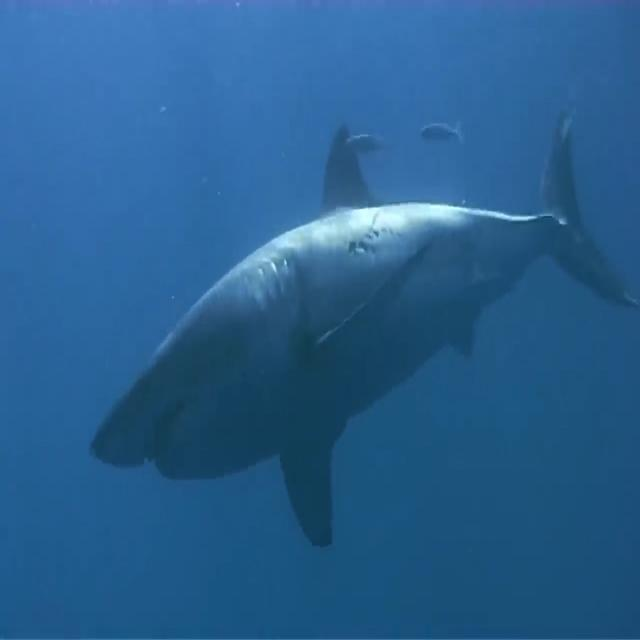Shark -Predatory-: (89, 124, 636, 544)
